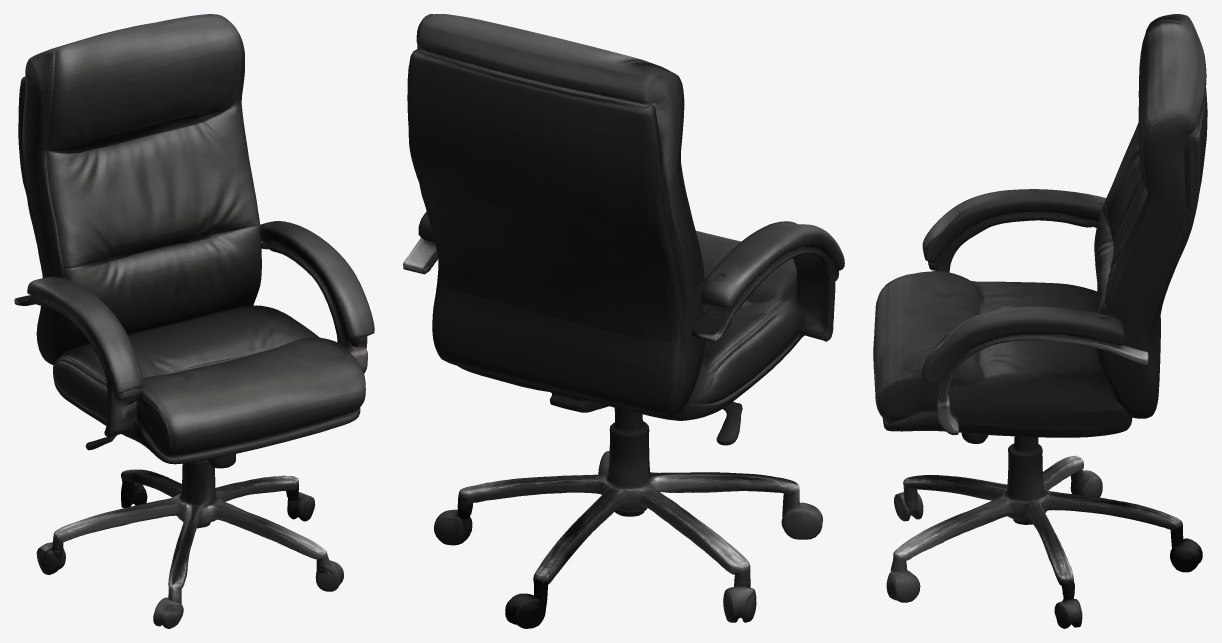
Rendered from manager_chair.glb.
The picture shows the model from 3 angles, left to right: view 1: azimuth 30°, elevation 25°; view 2: azimuth 150°, elevation 25°; view 3: azimuth 270°, elevation 25°; orthographic projection. The views are drawn at different scales.
Visible parts, largest first — view 1: geometry_0; view 2: geometry_0; view 3: geometry_0.
Boxes of the visible parts, bbox=[...] form: geometry_0: bbox=[14, 14, 374, 628]; geometry_0: bbox=[403, 14, 844, 628]; geometry_0: bbox=[873, 14, 1207, 628].
Bounding box in the file's own units: 0.5851 × 1 × 0.6006.
Materials: 1 (1 with a texture image).
